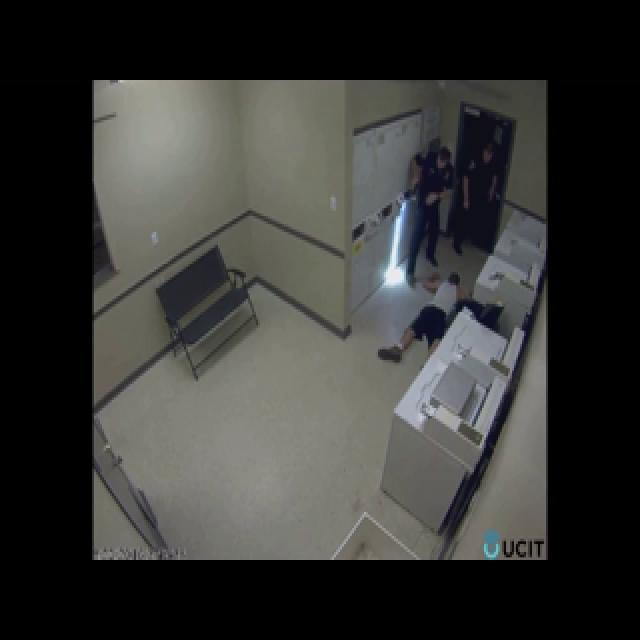arrest: (349, 60, 524, 521)
